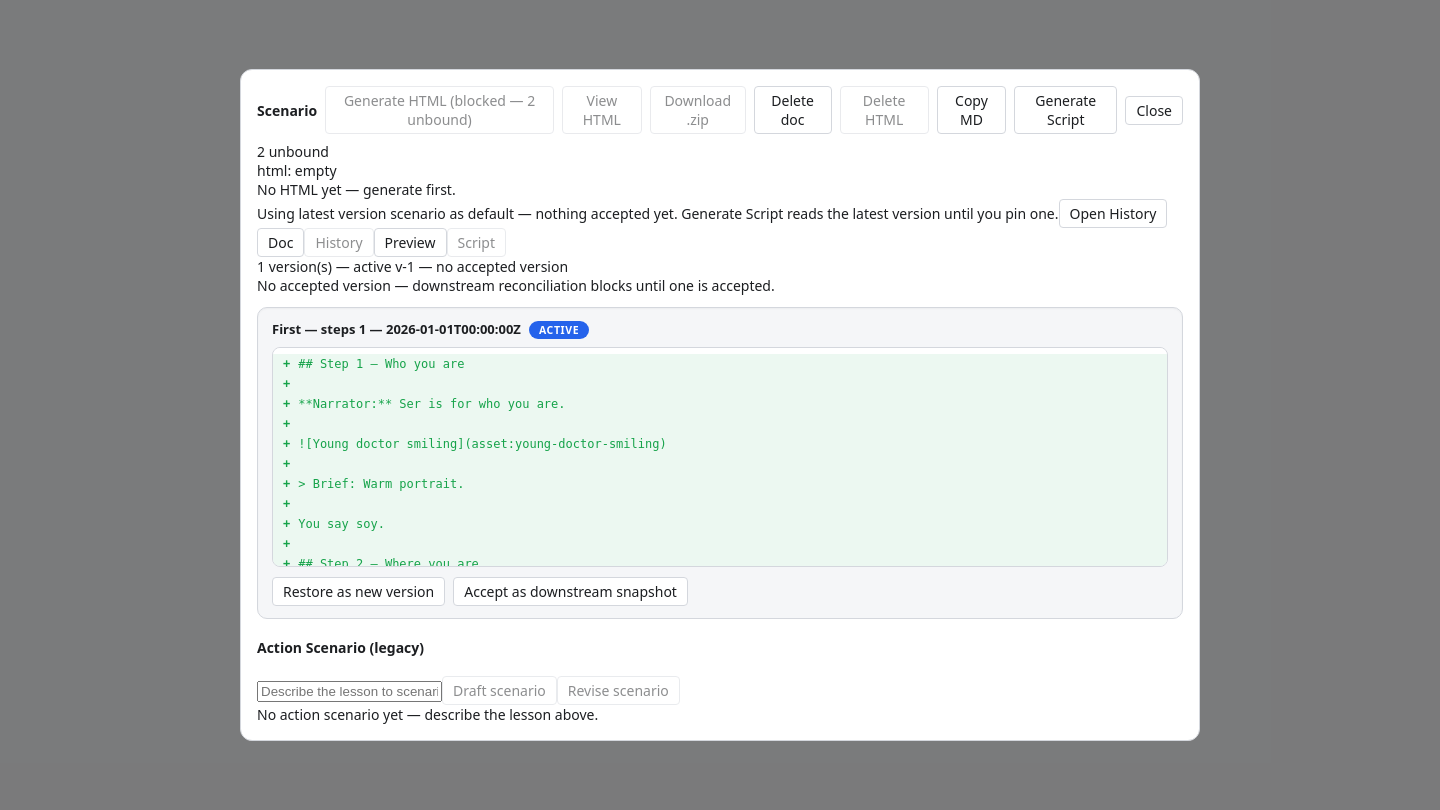
it: AiScenarioModal doc-first blocking checklist (issue #463) › History tab inside the modal lists versions with diff and restore affordance
Expected: the element with test id "ai-scenario-history" is shown, [257, 257, 1183, 619]
Expected: the list item with test id "ai-scenario-version-v-1" is shown, [257, 307, 1183, 619]
# Doc tab switch stays inside the modal.
What coordinates should you click on to do the following:
click the button with test id "ai-scenario-modal-tab-doc"
I would click on:
 (281, 243)
Its box is [257, 228, 304, 257].
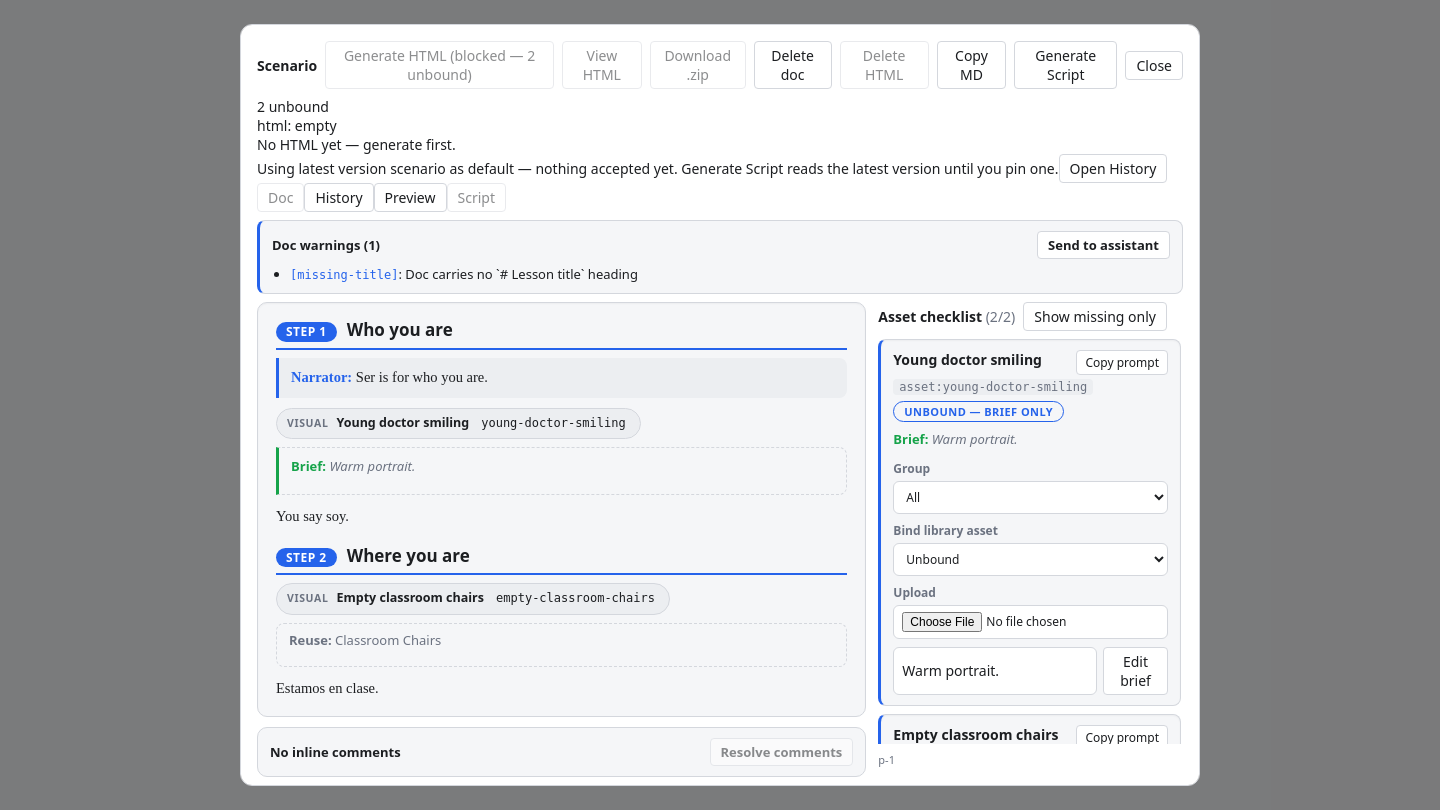
Expected: the element with test id "ai-scenario-modal-doc" is shown, [257, 302, 866, 717]
